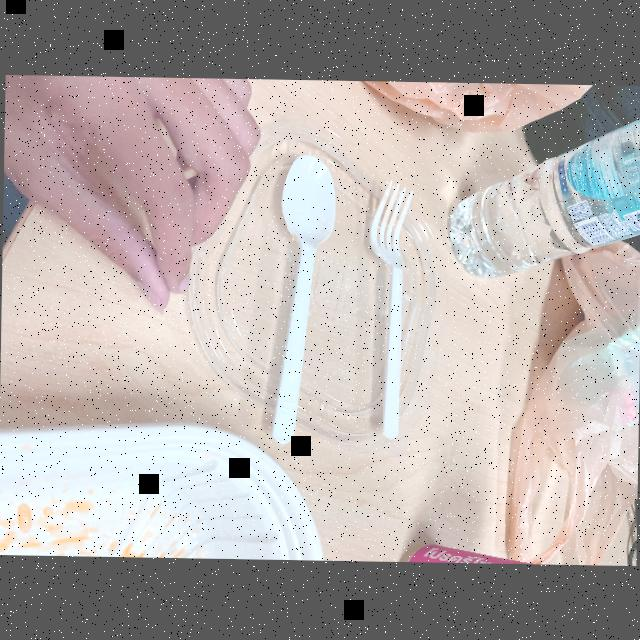plastic_spoon: (252, 150, 350, 450), (350, 178, 428, 444)
